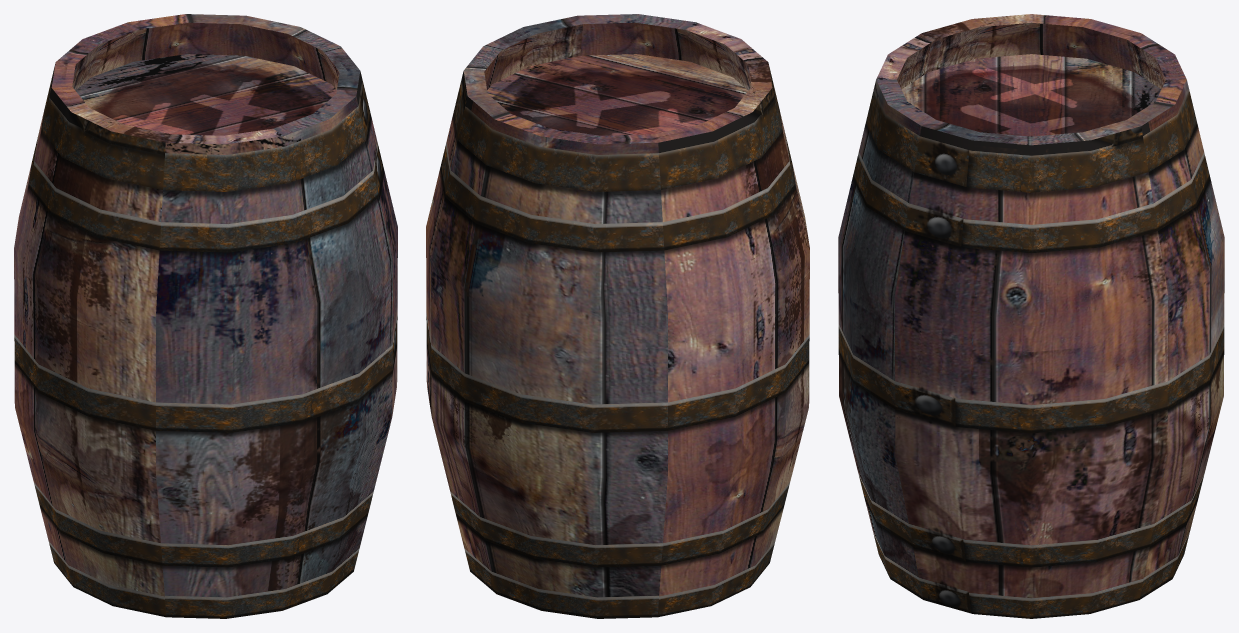
Rendered from Barrel_2.fbx.
3 views of the same model, side by side, from view 1: azimuth 30°, elevation 25°; view 2: azimuth 150°, elevation 25°; view 3: azimuth 270°, elevation 25° (orthographic).
Visible parts, largest first — view 1: Barrel_1:Mesh; view 2: Barrel_1:Mesh; view 3: Barrel_1:Mesh.
Boxes of the visible parts, x1,y1,x2,y2 form: Barrel_1:Mesh: (14,14,397,618); Barrel_1:Mesh: (426,14,809,618); Barrel_1:Mesh: (838,14,1224,618).
Size of the model in its own units: 0.8792 by 1.19 by 0.8792.
